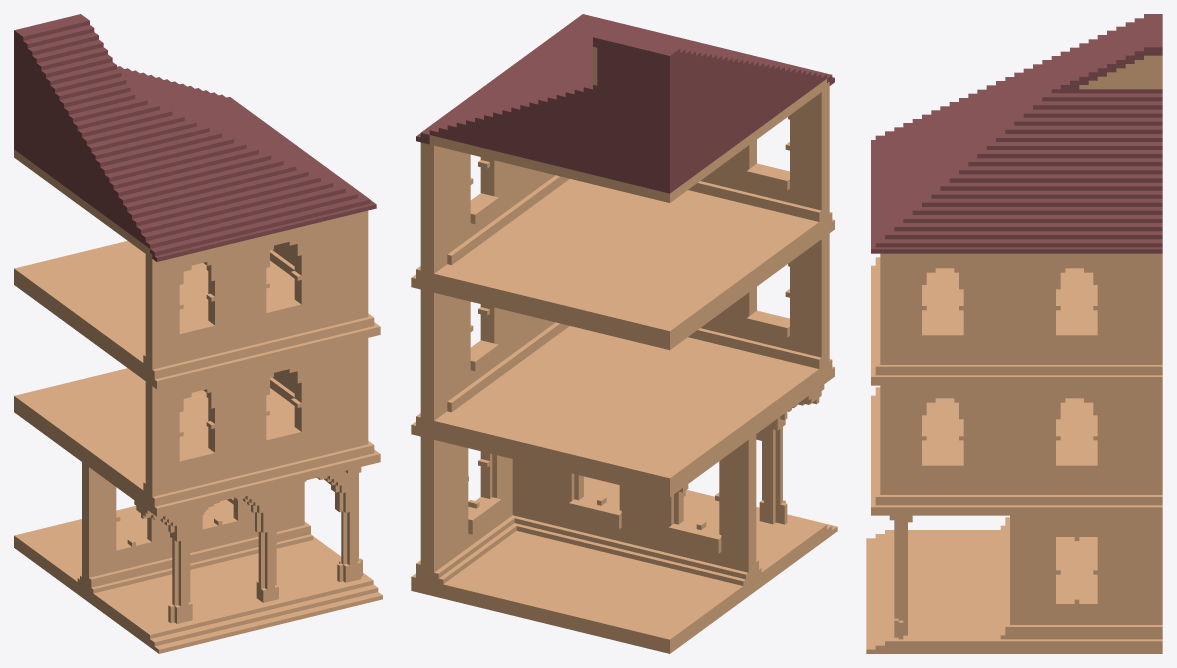
The model's file is Filler LSU Building 1-4.obj.
The picture shows the model from 3 angles, left to right: view 1: azimuth 30°, elevation 25°; view 2: azimuth 150°, elevation 25°; view 3: azimuth 270°, elevation 25°; orthographic projection. The views are drawn at different scales.
Parts seen in each view (by area): view 1: Filler LSU Building 1-4; view 2: Filler LSU Building 1-4; view 3: Filler LSU Building 1-4.
Boxes of the visible parts, box(x1,y1,x2,y2) form: Filler LSU Building 1-4: box(14, 14, 382, 653); Filler LSU Building 1-4: box(411, 14, 837, 653); Filler LSU Building 1-4: box(866, 14, 1162, 653).
Size of the model in its own units: 57 by 126 by 64.
1 material, 1 textured.
